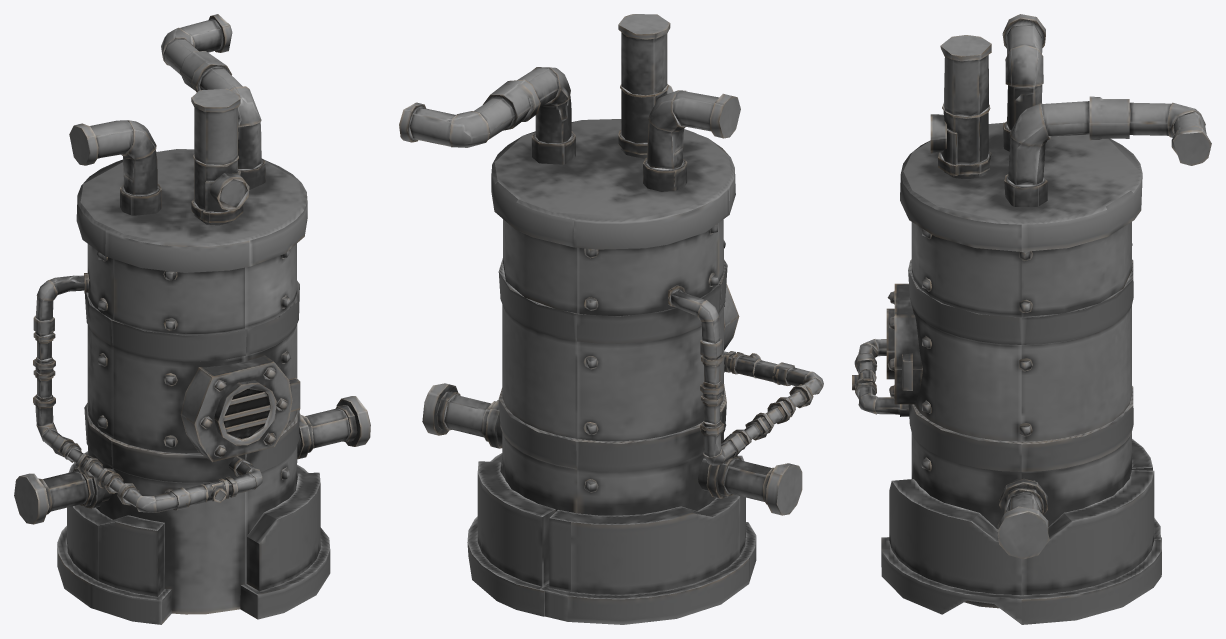
Rendered from furnace.glb.
The picture shows the model from 3 angles, left to right: view 1: azimuth 30°, elevation 25°; view 2: azimuth 150°, elevation 25°; view 3: azimuth 270°, elevation 25°; orthographic projection. The views are drawn at different scales.
Parts seen in each view (by area): view 1: Body_1, Body_2; view 2: Body_1, Body_2; view 3: Body_1, Body_2.
Boxes of the visible parts, box(x1,y1,x2,y2) form: Body_1: box(57, 149, 330, 624); Body_2: box(14, 14, 370, 524); Body_1: box(467, 119, 756, 624); Body_2: box(399, 14, 823, 515); Body_1: box(881, 122, 1161, 624); Body_2: box(852, 14, 1211, 559).
Bounding box in the file's own units: 3.04 × 4.29 × 2.71.
2 materials, 2 textured.
